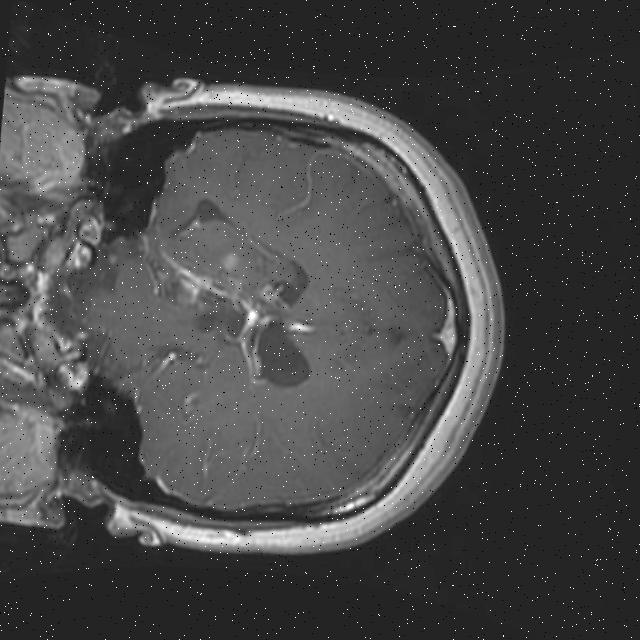Glioma: (133, 242, 311, 350)
